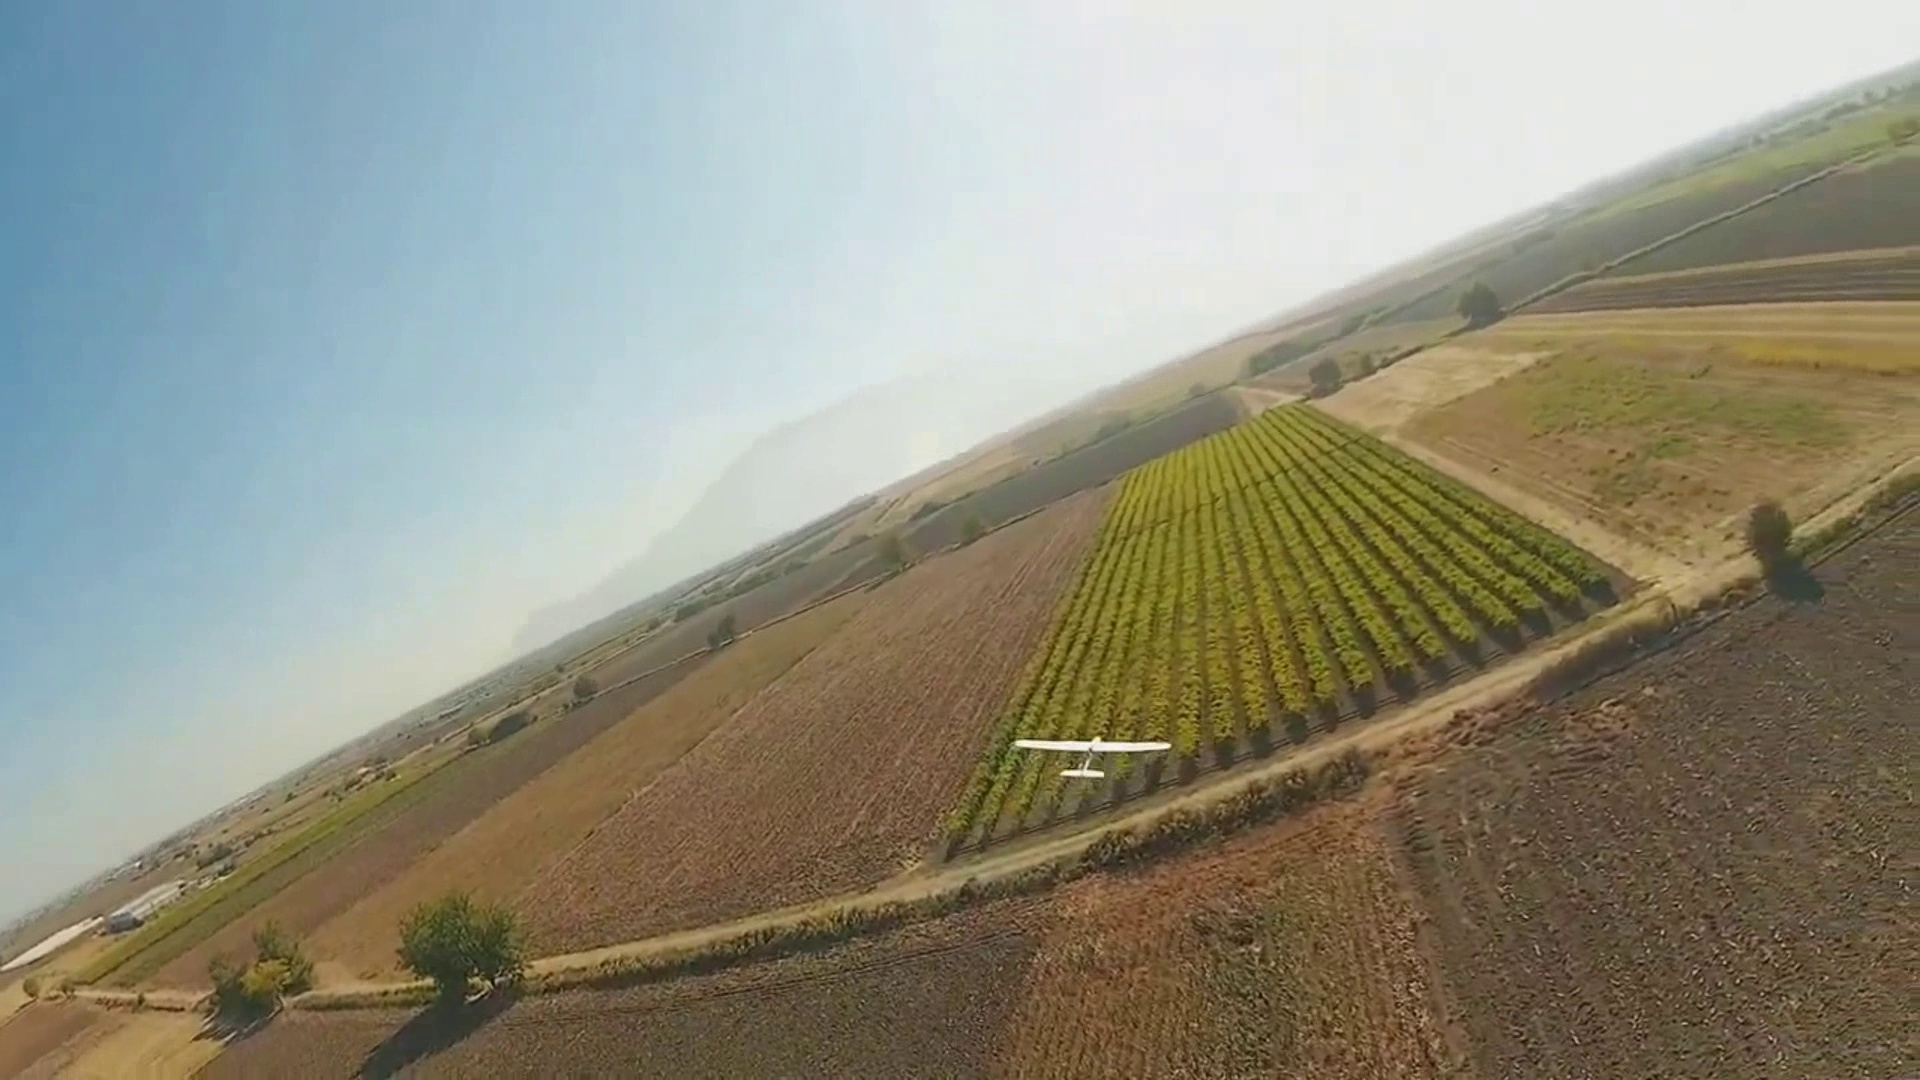airplane: (45, 54, 1916, 945)
